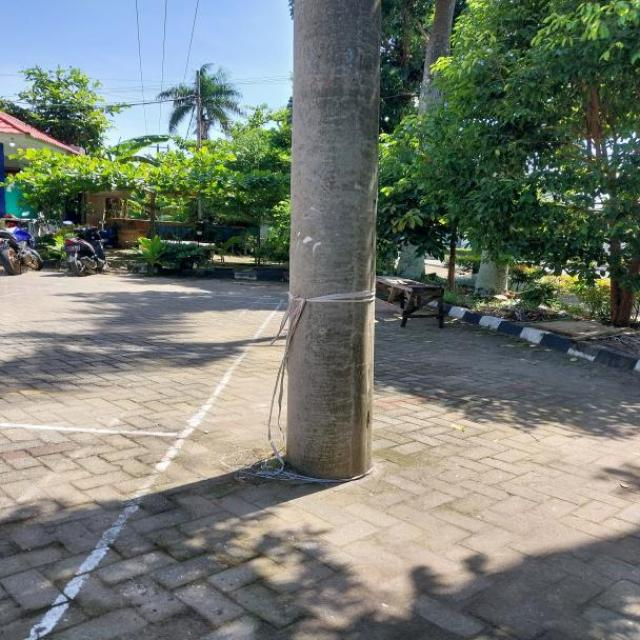tree ahead at: (276, 0, 379, 485)
